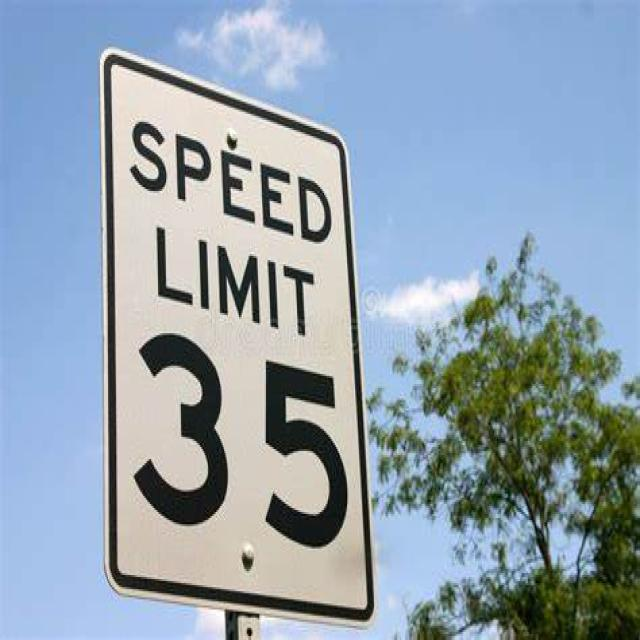speedLimit35: (100, 50, 378, 618)
